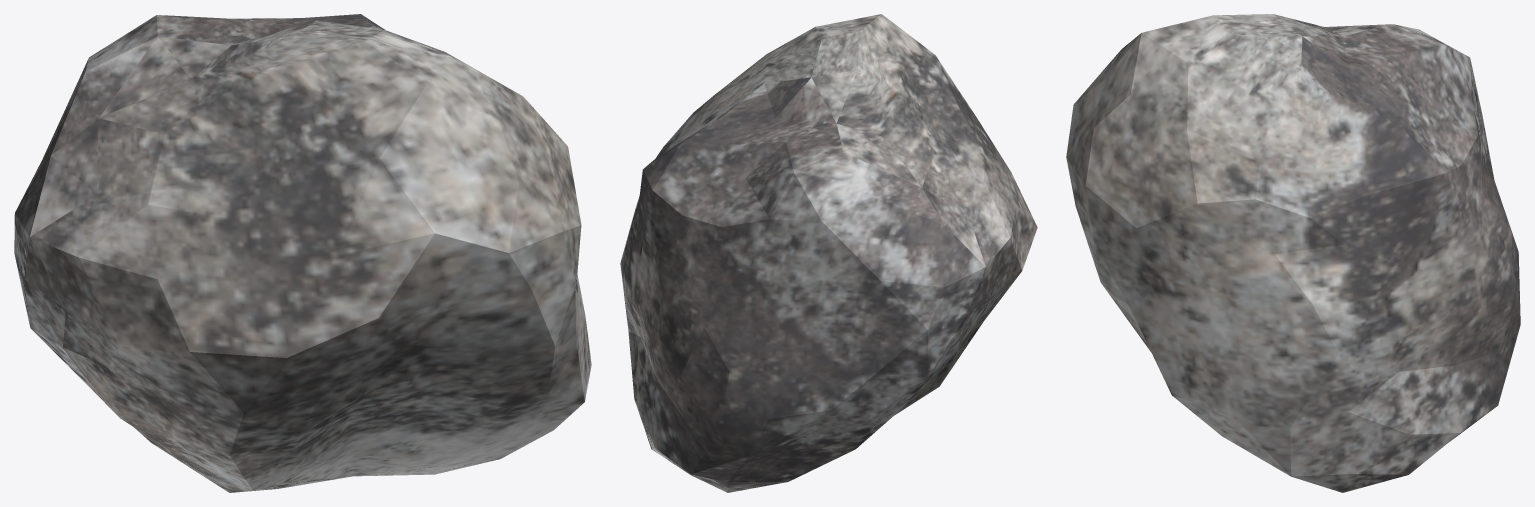
Rendered from Asteroid_Medium_003.fbx.
3 views of the same model, side by side, from view 1: azimuth 30°, elevation 25°; view 2: azimuth 150°, elevation 25°; view 3: azimuth 270°, elevation 25° (orthographic). The views are drawn at different scales.
Parts seen in each view (by area): view 1: Asteroid_Medium_003; view 2: Asteroid_Medium_003; view 3: Asteroid_Medium_003.
Boxes of the visible parts, <box> form: Asteroid_Medium_003: <box>14,14,591,492</box>; Asteroid_Medium_003: <box>620,14,1037,492</box>; Asteroid_Medium_003: <box>1066,14,1520,492</box>.
Bounding box in the file's own units: 18.65 × 18.68 × 18.97.
Materials: 1 (1 with a texture image).
